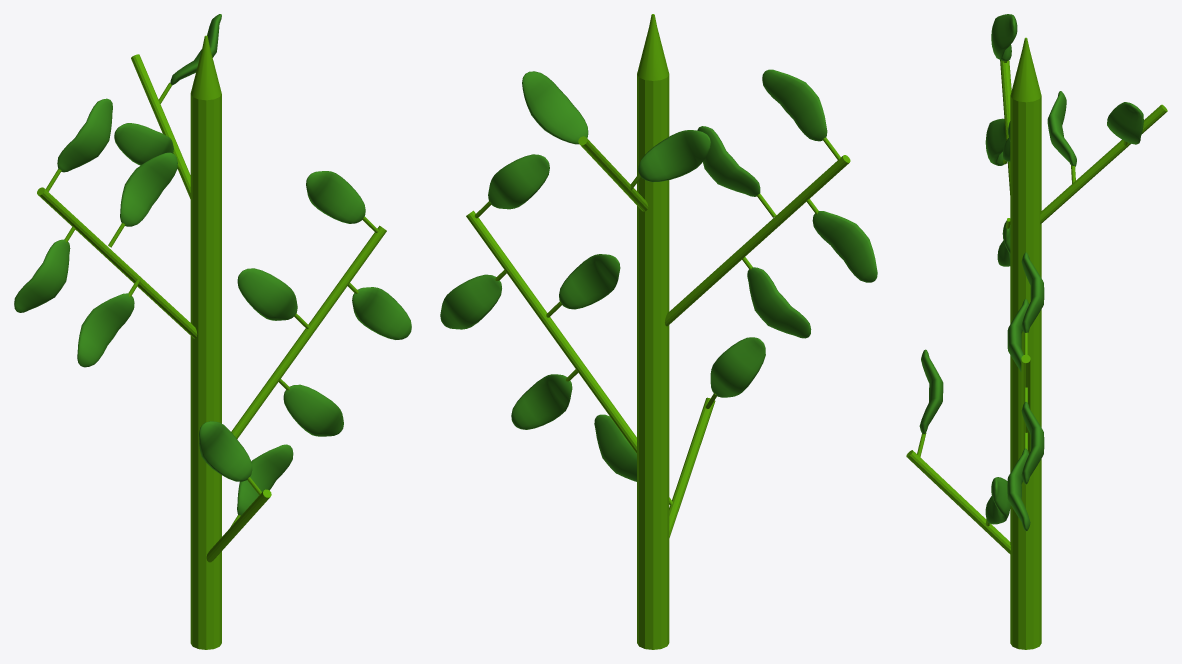
Rendered from coca3.fbx.
3 renders of one model, left to right at view 1: azimuth 30°, elevation 25°; view 2: azimuth 150°, elevation 25°; view 3: azimuth 270°, elevation 25°, orthographic. The views are drawn at different scales.
Visible parts, largest first — view 1: Stalk, Branch3, CocaLeaf5, CocaLeaf6, CocaLeaf7, CocaLeaf12, CocaLeaf1, CocaLeaf2, CocaLeaf8, CocaLeaf3, CocaLeaf4, Branch2 (+5 smaller); view 2: Stalk, Branch3, CocaLeaf9, CocaLeaf11, Branch2, CocaLeaf4, CocaLeaf3, CocaLeaf1, CocaLeaf2, CocaLeaf12, CocaLeaf7, CocaLeaf8 (+5 smaller); view 3: Stalk, Twig6, Twig5, CocaLeaf9, CocaLeaf11, CocaLeaf2, CocaLeaf12, CocaLeaf1, CocaLeaf4, CocaLeaf8, CocaLeaf10, CocaLeaf3 (+4 smaller).
Boxes of the visible parts, x1,y1,x2,y2 form: Stalk: (190, 35, 221, 649); Branch3: (231, 225, 386, 438); CocaLeaf5: (120, 152, 177, 226); CocaLeaf6: (77, 293, 134, 367); CocaLeaf7: (237, 268, 297, 320); CocaLeaf12: (199, 421, 252, 481); CocaLeaf1: (306, 171, 365, 223); CocaLeaf2: (352, 287, 411, 339); CocaLeaf8: (283, 384, 343, 436); CocaLeaf3: (14, 239, 70, 312); CocaLeaf4: (57, 98, 112, 172); Branch2: (37, 187, 197, 338); Stalk: (637, 14, 669, 649); Branch3: (466, 210, 636, 453); CocaLeaf9: (522, 71, 588, 144); CocaLeaf11: (638, 130, 710, 182); Branch2: (665, 155, 850, 326); CocaLeaf4: (762, 69, 827, 141); CocaLeaf3: (812, 211, 877, 282); CocaLeaf1: (488, 154, 549, 209); CocaLeaf2: (440, 274, 501, 329); CocaLeaf12: (710, 337, 765, 397); CocaLeaf7: (559, 254, 620, 309); CocaLeaf8: (511, 374, 572, 429); Stalk: (1010, 37, 1041, 649); Twig6: (1040, 104, 1167, 224); Twig5: (906, 450, 1010, 553); CocaLeaf9: (1107, 102, 1143, 144); CocaLeaf11: (1047, 91, 1076, 166); CocaLeaf2: (1021, 402, 1044, 484); CocaLeaf12: (919, 349, 943, 434); CocaLeaf1: (1021, 252, 1044, 332); CocaLeaf4: (991, 14, 1017, 61); CocaLeaf8: (1007, 448, 1030, 531); CocaLeaf10: (985, 477, 1010, 524); CocaLeaf3: (985, 118, 1005, 165).
Bounding box in the file's own units: 5.77 × 8.16 × 3.2.
